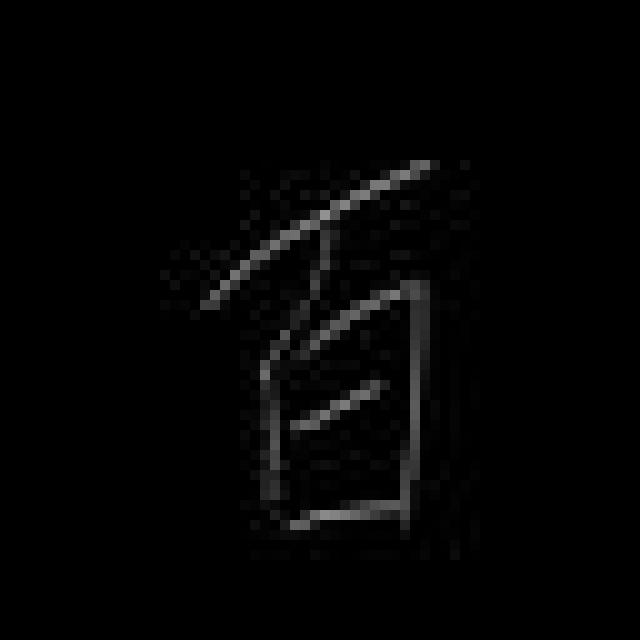100 -a hundred-: (198, 149, 439, 537)
